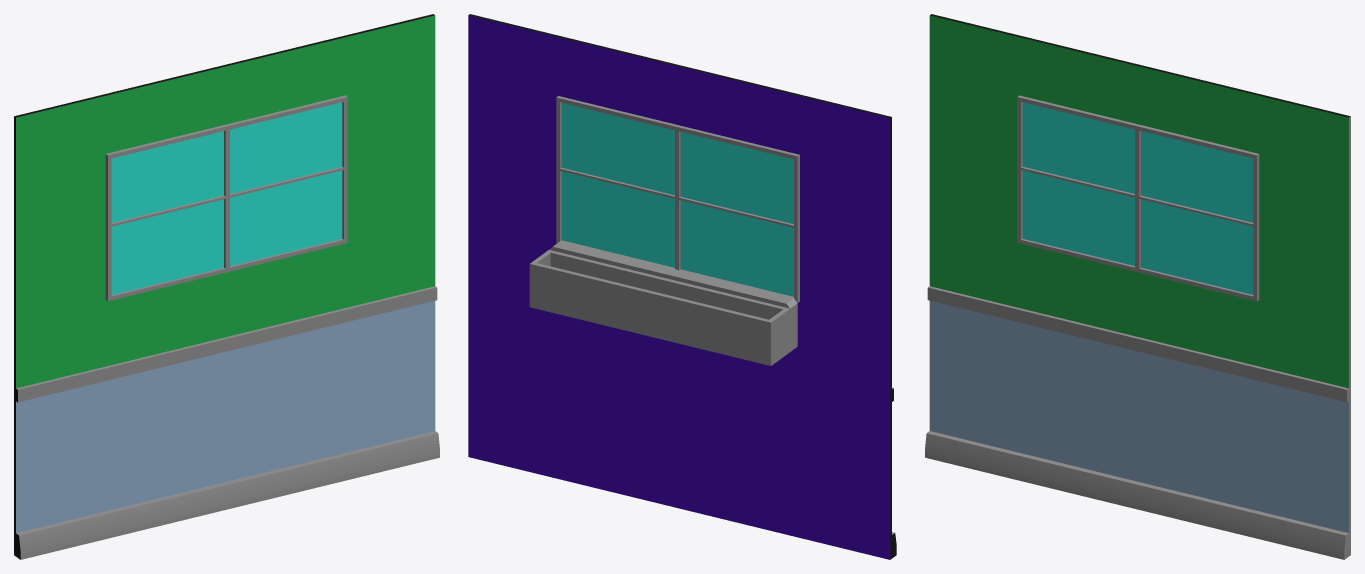
File: Wall with Window and potter.FBX
3 renders of one model, left to right at view 1: azimuth 30°, elevation 25°; view 2: azimuth 150°, elevation 25°; view 3: azimuth 330°, elevation 25°, orthographic.
Parts seen in each view (by area): view 1: object 1, Plane004; view 2: object 1, Plane005; view 3: object 1, Plane004.
Boxes of the visible parts, <box> form: object 1: <box>14,14,439,559</box>; Plane004: <box>111,102,342,294</box>; object 1: <box>468,14,896,559</box>; Plane005: <box>561,103,793,296</box>; object 1: <box>925,14,1350,559</box>; Plane004: <box>1022,102,1253,294</box>.
Bounding box in the file's own units: 2.44 × 2.44 × 0.3541.
